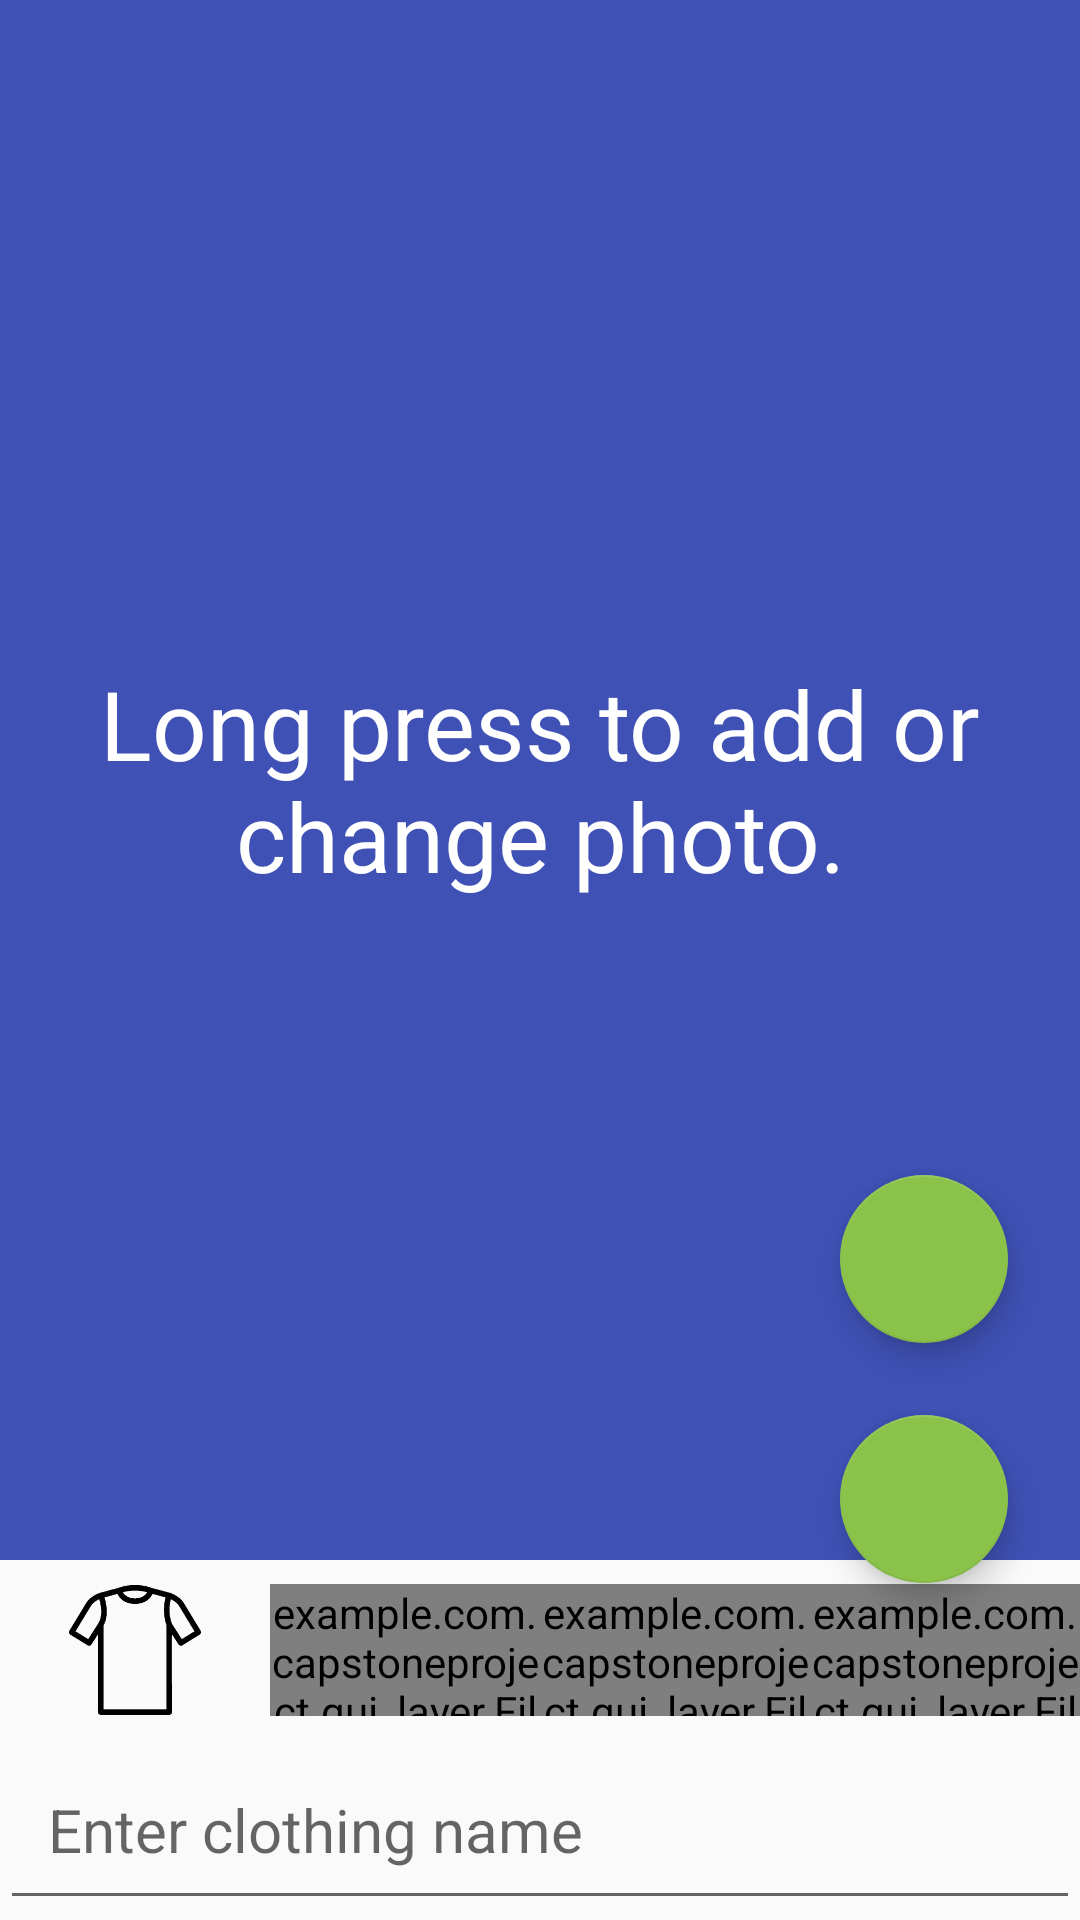

Locate icon controls on the screen. Image size 1080*1920, boxes as box=[x1, y1, x2, y2].
shirt: box=[69, 1585, 201, 1715]
